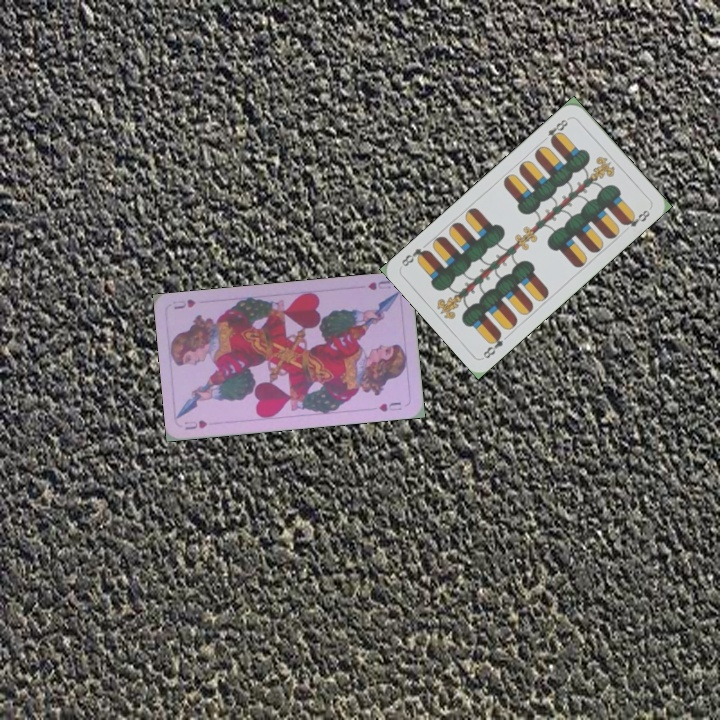E8: (538, 114, 572, 146), (479, 328, 506, 361)
HU: (364, 276, 393, 293), (181, 416, 210, 433)
